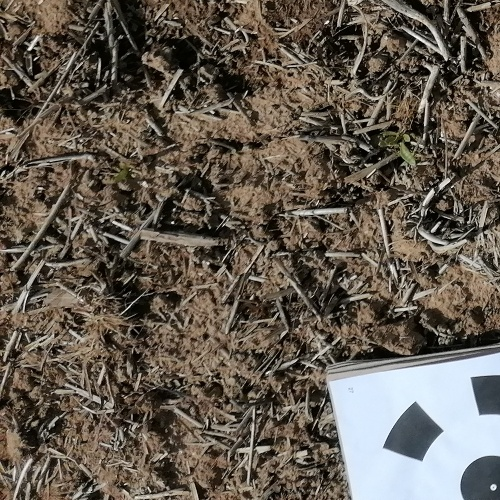beet: (379, 133, 417, 165)
